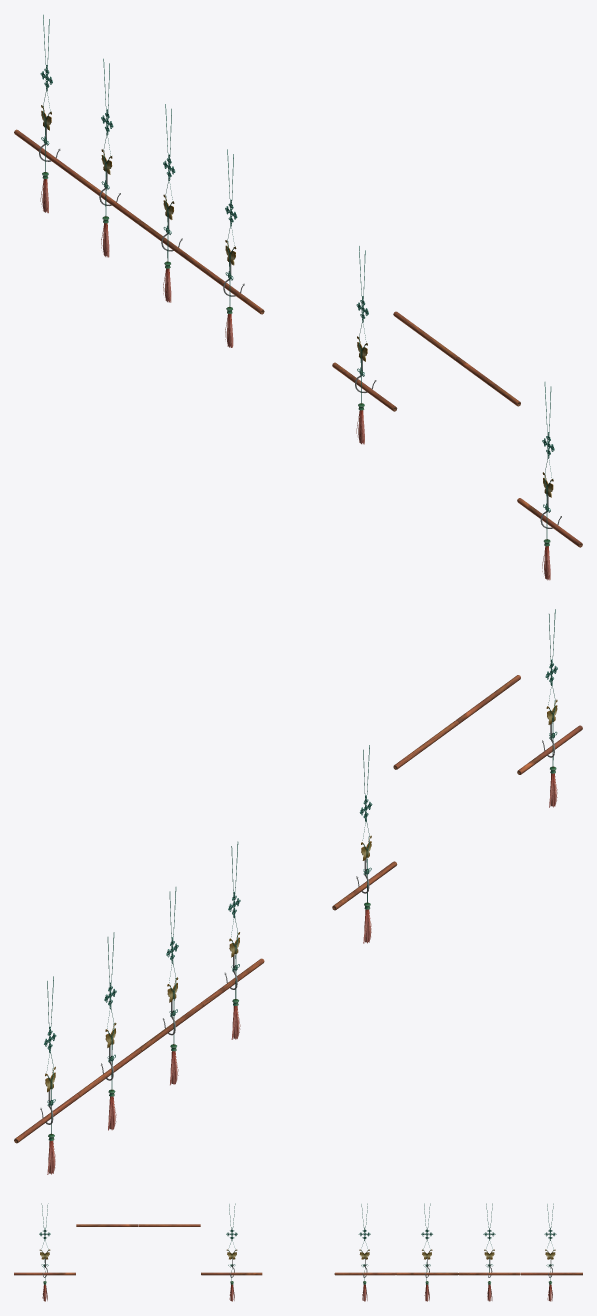
Rendered from TraditionalKoreanHouse_BlindDeco.fbx.
The picture shows the model from 3 angles, top to bottom: view 1: azimuth 30°, elevation 25°; view 2: azimuth 150°, elevation 25°; view 3: azimuth 270°, elevation 25°; orthographic projection. The views are drawn at different scales.
Visible parts, largest first — view 1: TraditionalKoreanHouse_BlindDeco; view 2: TraditionalKoreanHouse_BlindDeco; view 3: TraditionalKoreanHouse_BlindDeco.
Part boxes in pixels (bbox=[...]): TraditionalKoreanHouse_BlindDeco: bbox=[14, 14, 582, 580]; TraditionalKoreanHouse_BlindDeco: bbox=[14, 609, 582, 1174]; TraditionalKoreanHouse_BlindDeco: bbox=[14, 1203, 582, 1301].
Bounding box in the file's own units: 9.29 × 101 × 530.
